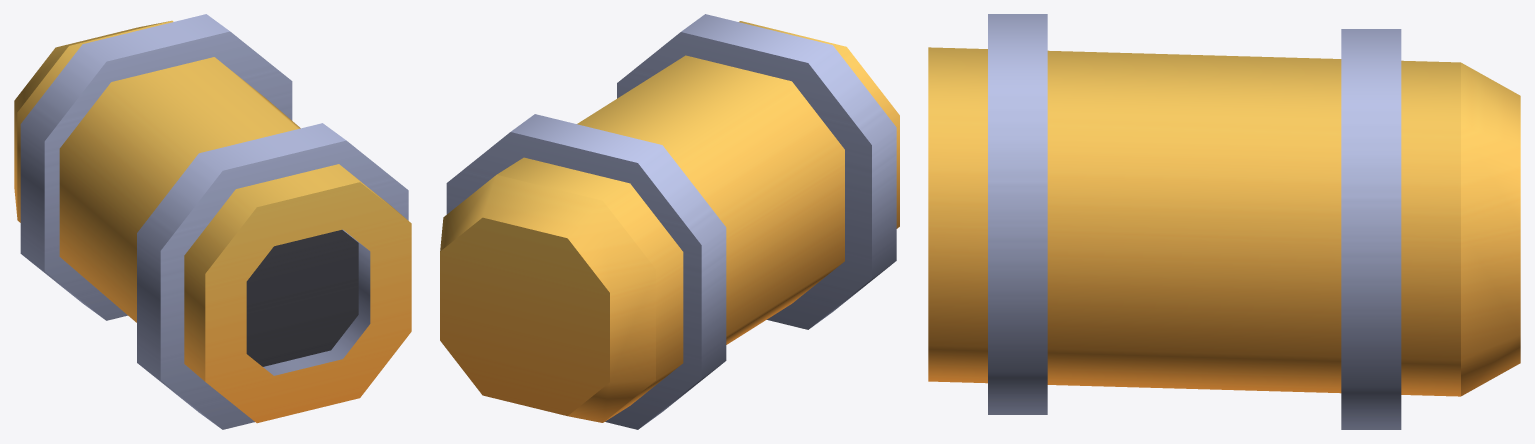
File: container-flat-open.obj
3 views of the same model, side by side, from view 1: azimuth 30°, elevation 25°; view 2: azimuth 150°, elevation 25°; view 3: azimuth 270°, elevation 25° (orthographic). The views are drawn at different scales.
Parts seen in each view (by area): view 1: container-flat-open; view 2: container-flat-open; view 3: container-flat-open.
Part boxes in pixels (x1,y1,x2,y2): container-flat-open: (14,14,411,429); container-flat-open: (440,14,899,429); container-flat-open: (928,14,1520,429).
Bounding box in the file's own units: 0.6595 × 0.6 × 0.9909.
Materials: 1 (1 with a texture image).
